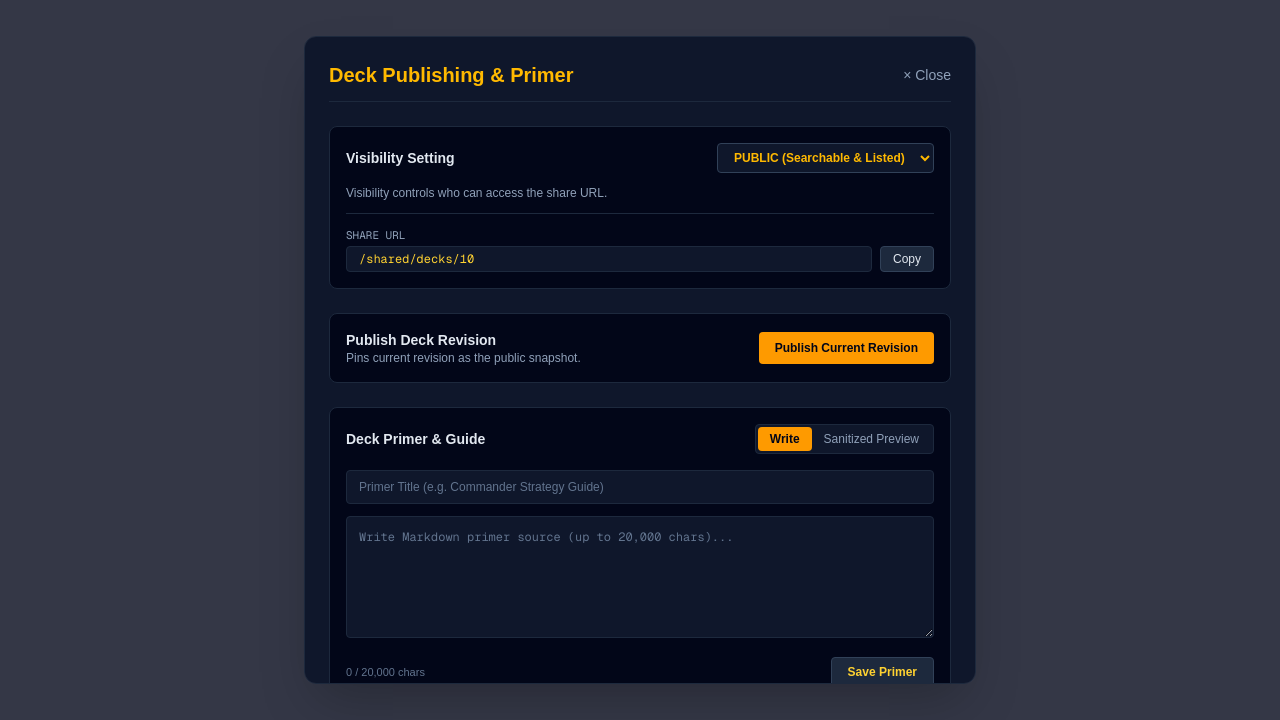
Test: DeckPublishingModal Component › updates primer strategy guide
The image size is (1280, 720).
Type "Sideboard Strategy" into the field with placeholder "Primer Title (e.g. Commander Strategy Guide)" at (640, 487), box [346,470,934,504]
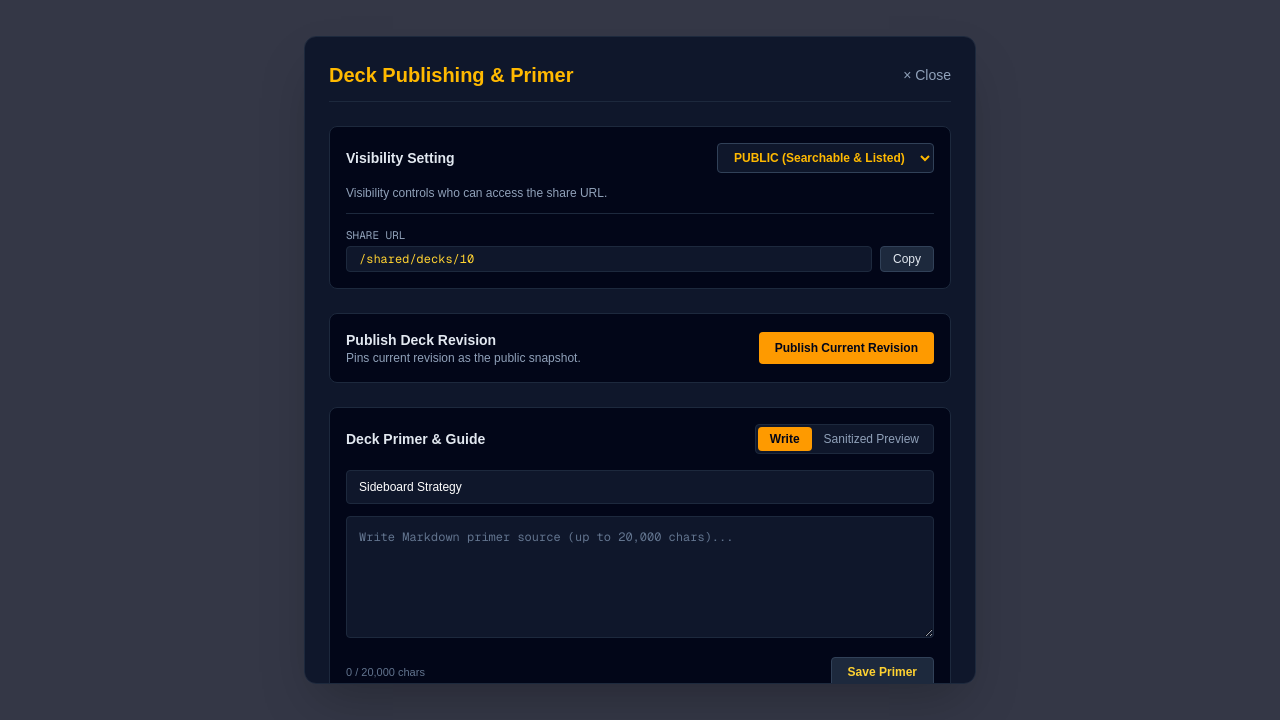
Type "# Sideboard Guide" into the text box with placeholder "Write Markdown primer source (up to 20,000 chars)..." at (640, 577), box [346,516,934,638]
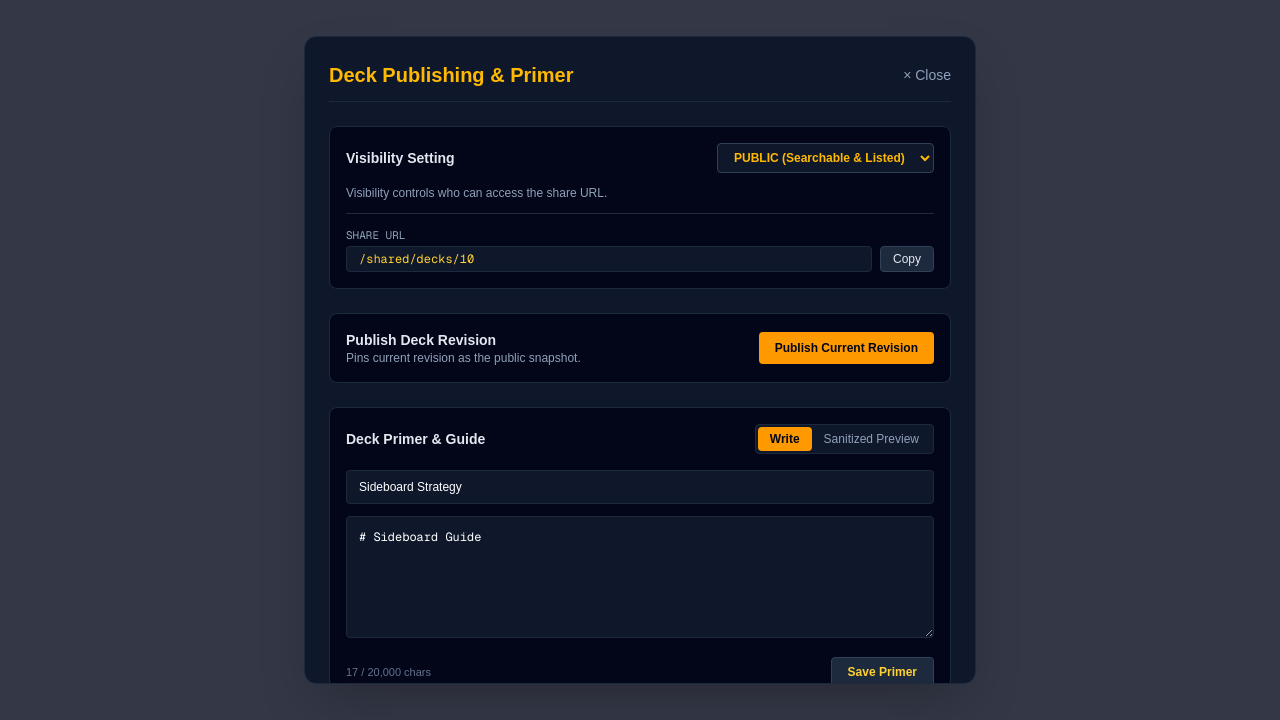
Click the button "Save Primer" at (882, 672), box [831,657,934,687]
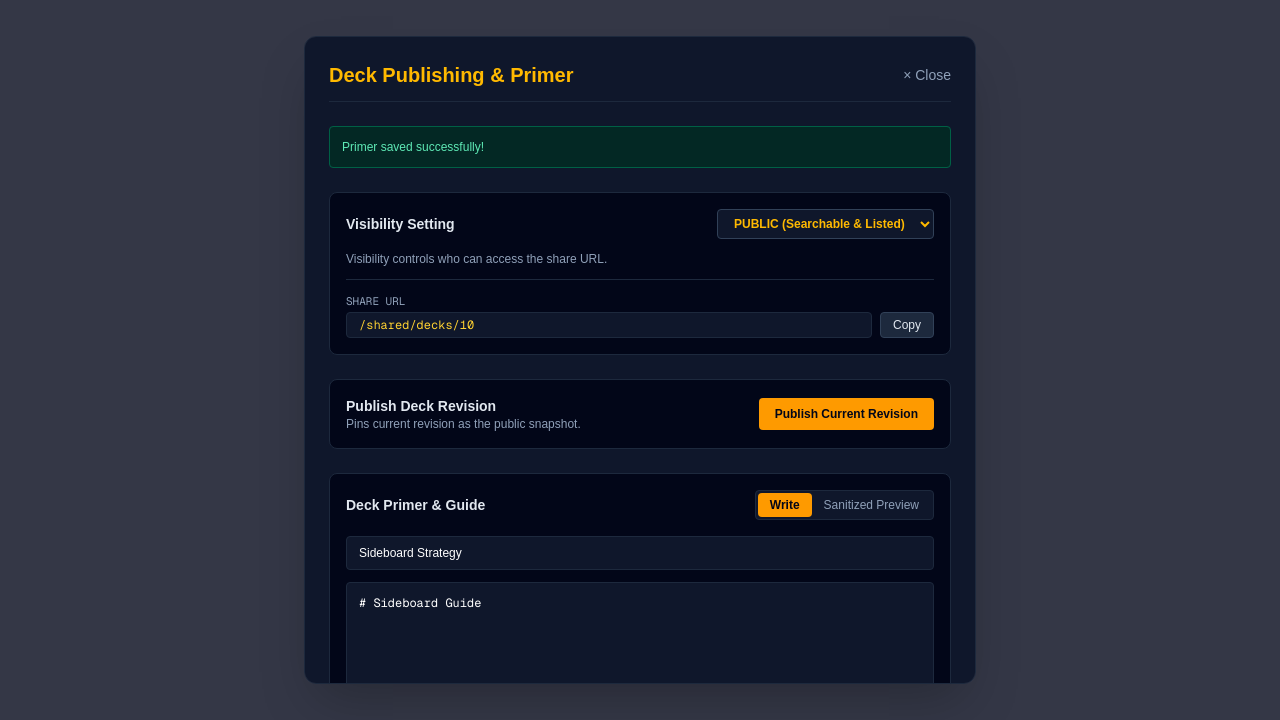
Check: the text "Primer saved successfully!" is shown, box [329,126,951,168]
